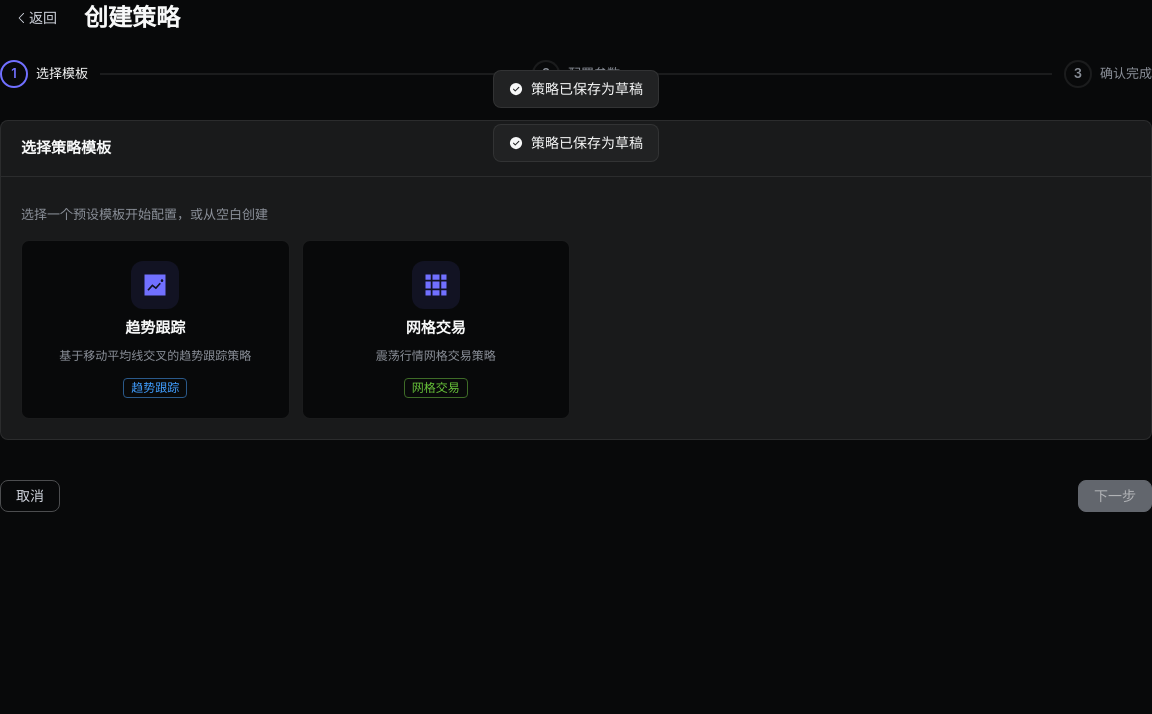
Scenario: StrategyCreateView › shows strategy code file upload field in step 2
Go to step 2
What coordinates should you click on to do the following:
click the element with class "template-card" showing "趋势跟踪 基于移动平均线交叉的趋势跟踪策略 趋势跟踪"
I would click on:
 (155, 330)
Its box is [21,240,290,420].
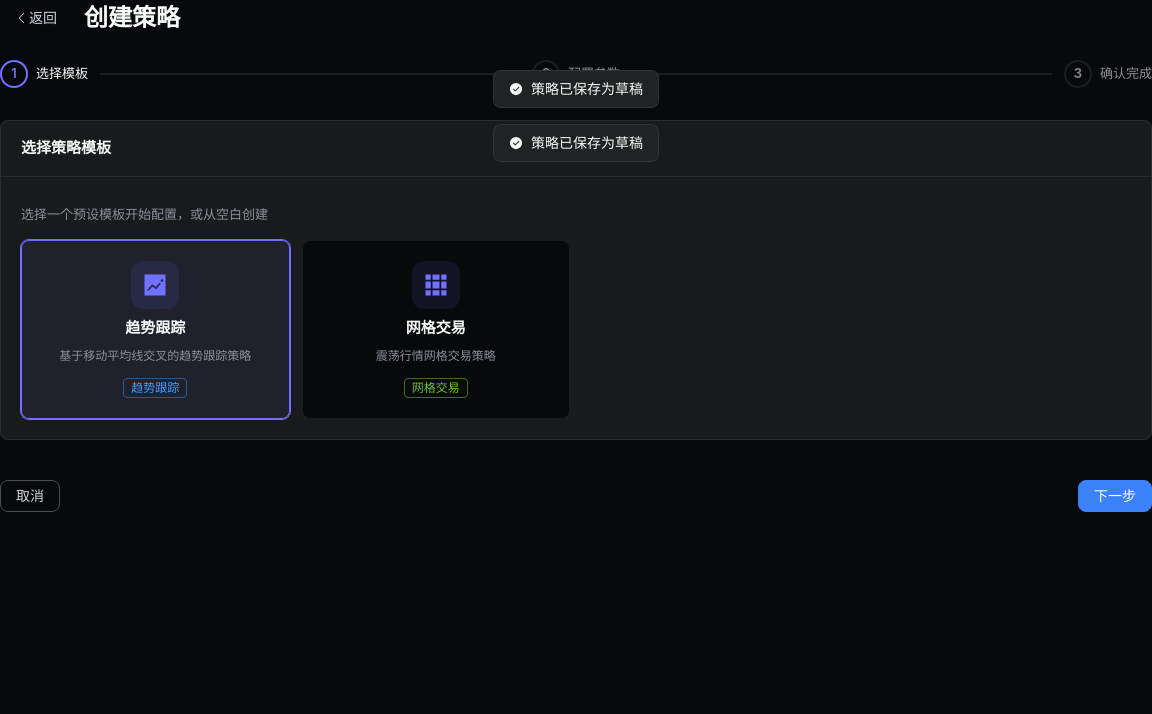
What coordinates should you click on to do the following:
click the button "下一步"
I would click on:
 (1115, 496)
Its box is [1078,480,1151,512].
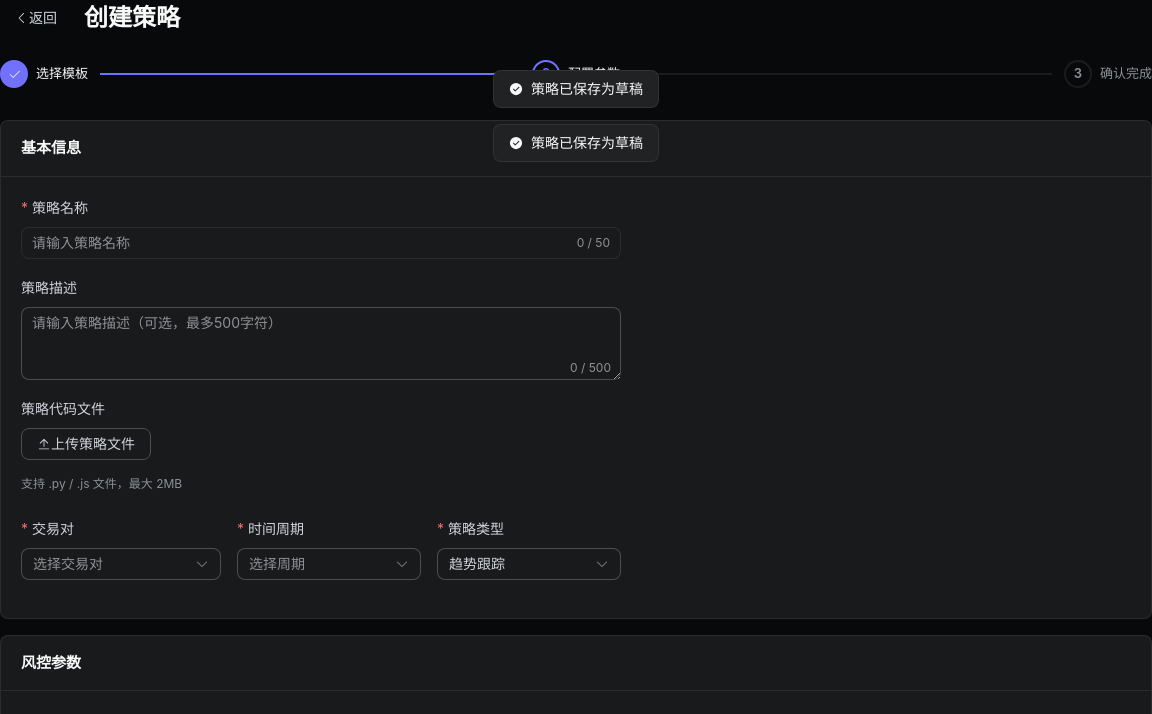
Now the text "策略代码文件" is shown, box [21,398,117,420]
Now the text "上传策略文件" is shown, box [37,436,135,450]
Now the text ".py" is shown, box [21,476,182,490]
